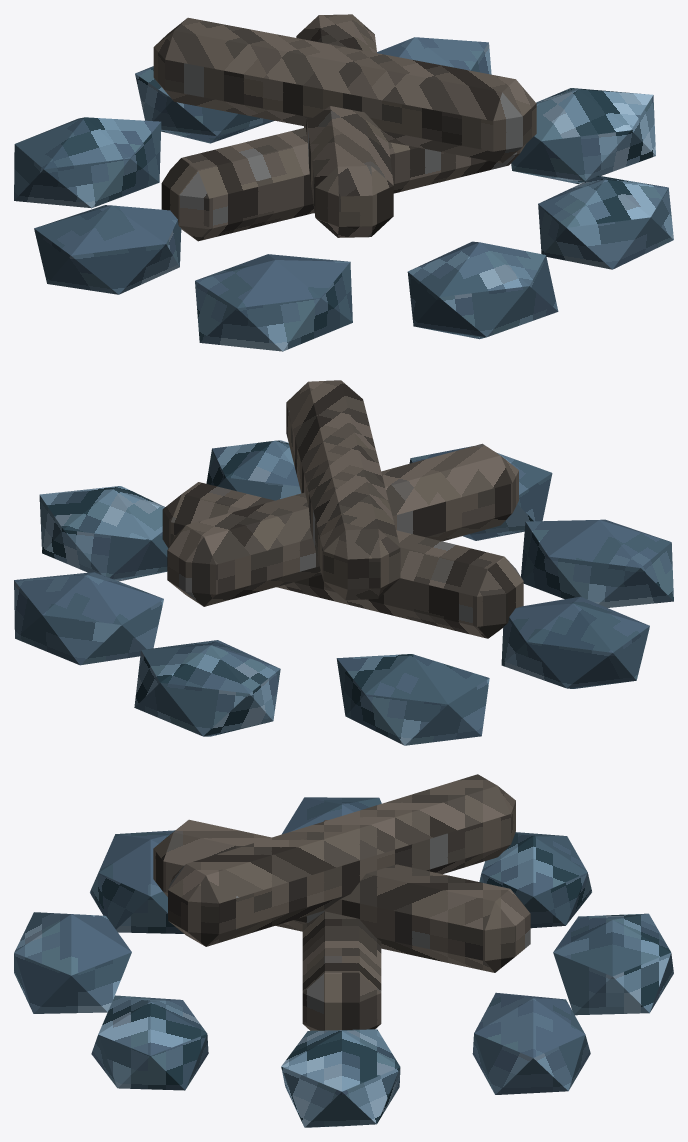
Rendered from enfeite_fogueira.fbx.
3 renders of one model, top to bottom at view 1: azimuth 30°, elevation 25°; view 2: azimuth 150°, elevation 25°; view 3: azimuth 270°, elevation 25°, orthographic. The views are drawn at different scales.
Visible parts, largest first — view 1: neve_enfeite_fogueira; view 2: neve_enfeite_fogueira; view 3: neve_enfeite_fogueira.
Part boxes in pixels (box(x1,y1,x2,y2)): neve_enfeite_fogueira: box(14, 14, 673, 351); neve_enfeite_fogueira: box(14, 380, 673, 745); neve_enfeite_fogueira: box(14, 774, 673, 1127).
Size of the model in its own units: 62.4 by 18.41 by 58.53.
Materials: 2 (2 with a texture image).
